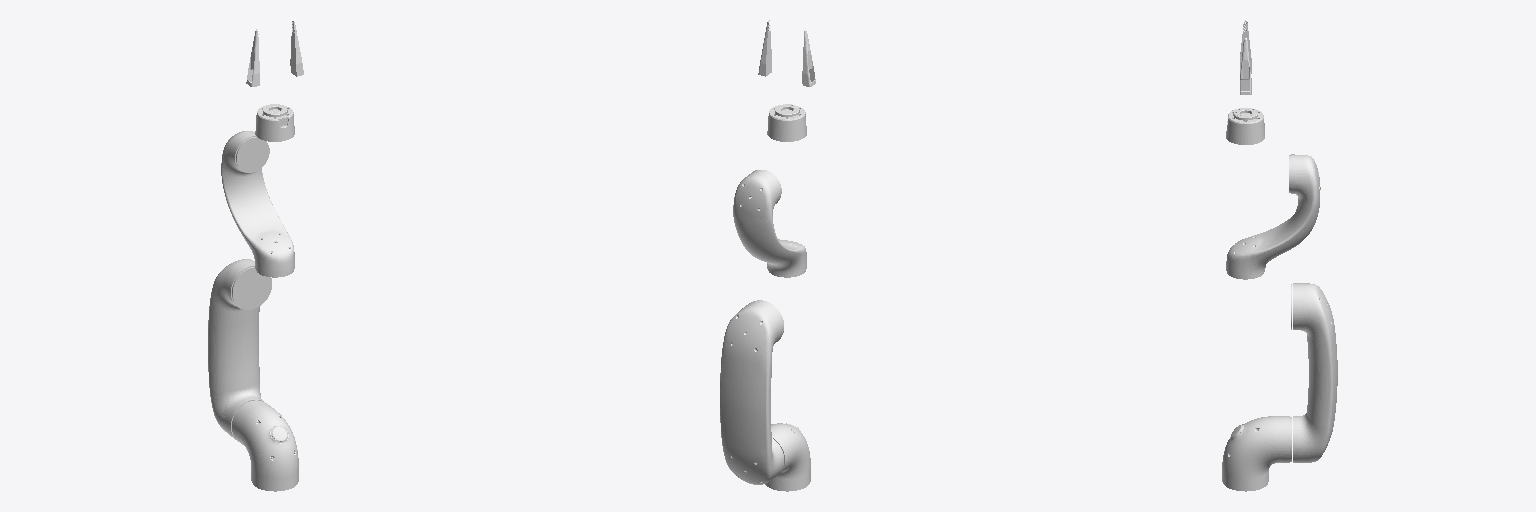
The robot description file, URDF, robot "strawberry_grasp_environment_robot":
<?xml version="1.0" ?>
<!-- e0509 Unity 시뮬레이터용 URDF. scripts/make_unity_urdf.py 가 만든다. 손으로 고치지 말 것. -->
<!-- 원천: ~/strawberry_grasp_environment/robot.urdf (Isaac 용 URDF) -->
<!--   딸기 리포 HEAD 2797bb5 · robot.urdf 마지막 커밋 a2e9bb5 · sha256 31518983405e61b26012fbc9ab3472b4c797590a3fe4a0ffbf3af9d471965a01 -->
<!--   메쉬 저장소 src/doosan_robot2 @ ec92425 -->
<!--   메쉬 저장소 src/RH-P12-RN @ 58d06e7 -->
<!-- 원천 대비 바꾼 것: 메쉬 절대 경로 → package:// : 40곳 / 중복 world 링크 + world_fixed(→ rh_p12_rn_base) 삭제: 1곳 / rh_r2 upper 1.0 → 1.1 rad / rh_l2 upper 1.0 → 1.1 rad / ros2_control 블록 삭제: 1개 / transmission 블록 삭제: 10개 / gazebo 블록 삭제: 15개 -->
<robot name="strawberry_grasp_environment_robot">
  <material name="black">
    <color rgba="0.0 0.0 0.0 1.0"/>
  </material>
  <material name="white">
    <color rgba="1.0 1.0 1.0 1.0"/>
  </material>
  <material name="orange">
    <color rgba="1.0 0.4 0.0 1.0"/>
  </material>
  <material name="dr_gray">
    <color rgba="0.490 0.490 0.486 1.0"/>
  </material>
  <material name="dr_white">
    <color rgba="0.941 0.941 0.941 1.0"/>
  </material>
  <material name="dr_blue">
    <color rgba="0 0 0.15 1"/>
  </material>
  <link name="base_link">
    <inertial>
      <mass value="1.803"/>
      <origin xyz="2.7e-05   -0.002651    0.035122"/>
      <inertia ixx="0.010608" ixy="1.7706e-06" ixz="6.6982e-06" iyy="0.0092656" iyz="-4.7833e-05" izz="0.0092125"/>
    </inertial>
    <collision>
      <origin rpy="0 0 0" xyz="0 0 0"/>
      <geometry>
        <mesh filename="package://dsr_description2/meshes/e0509_collision/E0509_0_0.dae" scale="0.001 0.001 0.001"/>
      </geometry>
      <material name="dr_white"/>
    </collision>
    <visual>
      <origin rpy="0 0 0" xyz="0 0 0"/>
      <geometry>
        <mesh filename="package://dsr_description2/meshes/e0509_white/E0509_0_0.dae" scale="0.001 0.001 0.001"/>
      </geometry>
      <material name="dr_white"/>
    </visual>
  </link>
  <!-- joint 1 -->
  <joint name="joint_1" type="revolute">
    <parent link="base_link"/>
    <child link="link_1"/>
    <origin rpy="0 0 0" xyz="0 0 0.2045"/>
    <axis xyz="0 0 1"/>
    <limit effort="194" lower="-6.2832" upper="6.2832" velocity="3.1416"/>
    <dynamics friction="0"/>
  </joint>
  <link name="link_1">
    <inertial>
      <mass value="5.75"/>
      <origin xyz="1e-06    0.049633   -0.049635"/>
      <inertia ixx="0.046214" ixy="1.4982e-05" ixz="1.281e-05" iyy="0.032573" iyz="-0.013997" izz="0.030999"/>
    </inertial>
    <collision>
      <origin rpy="0 0 0" xyz="0 0 0"/>
      <geometry>
        <mesh filename="package://dsr_description2/meshes/e0509_collision/E0509_1_1.dae" scale="0.001 0.001 0.001"/>
      </geometry>
      <material name="dr_white"/>
    </collision>
    <visual>
      <origin rpy="0 0 0" xyz="0 0 0"/>
      <geometry>
        <mesh filename="package://dsr_description2/meshes/e0509_white/E0509_1_1.dae" scale="0.001 0.001 0.001"/>
      </geometry>
      <material name="dr_white"/>
    </visual>
    <collision>
      <origin rpy="0 0 0" xyz="0 0 0"/>
      <geometry>
        <mesh filename="package://dsr_description2/meshes/e0509_collision/E0509_1_2.dae" scale="0.001 0.001 0.001"/>
      </geometry>
      <material name="dr_white"/>
    </collision>
    <visual>
      <origin rpy="0 0 0" xyz="0 0 0"/>
      <geometry>
        <mesh filename="package://dsr_description2/meshes/e0509_white/E0509_1_2.dae" scale="0.001 0.001 0.001"/>
      </geometry>
      <material name="dr_white"/>
    </visual>
    <collision>
      <origin rpy="0 0 0" xyz="0 0 0"/>
      <geometry>
        <mesh filename="package://dsr_description2/meshes/e0509_collision/E0509_1_3.dae" scale="0.001 0.001 0.001"/>
      </geometry>
      <material name="dr_white"/>
    </collision>
    <visual>
      <origin rpy="0 0 0" xyz="0 0 0"/>
      <geometry>
        <mesh filename="package://dsr_description2/meshes/e0509_white/E0509_1_3.dae" scale="0.001 0.001 0.001"/>
      </geometry>
      <material name="dr_white"/>
    </visual>
    <collision>
      <origin rpy="0 0 0" xyz="0 0 0"/>
      <geometry>
        <mesh filename="package://dsr_description2/meshes/e0509_collision/E0509_1_4.dae" scale="0.001 0.001 0.001"/>
      </geometry>
      <material name="dr_white"/>
    </collision>
    <visual>
      <origin rpy="0 0 0" xyz="0 0 0"/>
      <geometry>
        <mesh filename="package://dsr_description2/meshes/e0509_white/E0509_1_4.dae" scale="0.001 0.001 0.001"/>
      </geometry>
      <material name="dr_white"/>
    </visual>
  </link>
  <!-- joint2 -->
  <joint name="joint_2" type="revolute">
    <parent link="link_1"/>
    <child link="link_2"/>
    <origin rpy="0 -1.5708 -1.5708" xyz="0 0 0"/>
    <axis xyz="0 0 1"/>
    <!-- [D1 2026-09-14] joint_2 ±360 -> ±95 deg (=1.6581 rad). 실기 cuRobo 설정(e0509_gripper.urdf)의 운용 범위.
         시뮬 로봇이 실기가 못 가는 자세를 허용하면 안 된다 (docs/e0509_spec_audit.md D1). 속도는 공식·실기 동일 (D2). -->
    <limit effort="194" lower="-1.6581" upper="1.6581" velocity="3.1416"/>
    <dynamics friction="0"/>
  </joint>
  <link name="link_2">
    <inertial>
      <mass value="3.461"/>
      <origin xyz="0.18647 -1.1418e-17     0.17311"/>
      <inertia ixx="0.012039" ixy="7.7771e-06" ixz="3.7559e-06" iyy="0.091203" iyz="3.1825e-06" izz="0.094721"/>
    </inertial>
    <collision>
      <origin rpy="0 0 0" xyz="0 0 0"/>
      <geometry>
        <mesh filename="package://dsr_description2/meshes/e0509_collision/E0509_2_1.dae" scale="0.001 0.001 0.001"/>
      </geometry>
      <material name="dr_white"/>
    </collision>
    <visual>
      <origin rpy="0 0 0" xyz="0 0 0"/>
      <geometry>
        <mesh filename="package://dsr_description2/meshes/e0509_white/E0509_2_1.dae" scale="0.001 0.001 0.001"/>
      </geometry>
      <material name="dr_white"/>
    </visual>
    <collision>
      <origin rpy="0 0 0" xyz="0 0 0"/>
      <geometry>
        <mesh filename="package://dsr_description2/meshes/e0509_collision/E0509_2_2.dae" scale="0.001 0.001 0.001"/>
      </geometry>
      <material name="dr_white"/>
    </collision>
    <visual>
      <origin rpy="0 0 0" xyz="0 0 0"/>
      <geometry>
        <mesh filename="package://dsr_description2/meshes/e0509_white/E0509_2_2.dae" scale="0.001 0.001 0.001"/>
      </geometry>
      <material name="dr_white"/>
    </visual>
  </link>
  <!-- joint3 -->
  <joint name="joint_3" type="revolute">
    <parent link="link_2"/>
    <child link="link_3"/>
    <origin rpy="0 0 1.5708" xyz="0.373 0 0"/>
    <axis xyz="0 0 1"/>
    <!-- [D1 2026-09-14] joint_3 ±155 -> ±135 deg (=2.3562 rad). 실기 cuRobo 설정(e0509_gripper.urdf)의 운용 범위.
         시뮬 로봇이 실기가 못 가는 자세를 허용하면 안 된다 (docs/e0509_spec_audit.md D1). 속도는 공식·실기 동일 (D2). -->
    <limit effort="194" lower="-2.3562" upper="2.3562" velocity="3.1416"/>
    <dynamics friction="0"/>
  </joint>
  <link name="link_3">
    <inertial>
      <mass value="4.582"/>
      <origin xyz="1.2e-05    -0.02919    0.062355"/>
      <inertia ixx="0.032606" ixy="6.548e-06" ixz="-6.9939e-07" iyy="0.024211" iyz="-0.0079929" izz="0.019284"/>
    </inertial>
    <collision>
      <origin rpy="0 0 0" xyz="0 0 0"/>
      <geometry>
        <mesh filename="package://dsr_description2/meshes/e0509_collision/E0509_3_1.dae" scale="0.001 0.001 0.001"/>
      </geometry>
      <material name="dr_white"/>
    </collision>
    <visual>
      <origin rpy="0 0 0" xyz="0 0 0"/>
      <geometry>
        <mesh filename="package://dsr_description2/meshes/e0509_white/E0509_3_1.dae" scale="0.001 0.001 0.001"/>
      </geometry>
      <material name="dr_white"/>
    </visual>
    <collision>
      <origin rpy="0 0 0" xyz="0 0 0"/>
      <geometry>
        <mesh filename="package://dsr_description2/meshes/e0509_collision/E0509_3_2.dae" scale="0.001 0.001 0.001"/>
      </geometry>
      <material name="dr_white"/>
    </collision>
    <visual>
      <origin rpy="0 0 0" xyz="0 0 0"/>
      <geometry>
        <mesh filename="package://dsr_description2/meshes/e0509_white/E0509_3_2.dae" scale="0.001 0.001 0.001"/>
      </geometry>
      <material name="dr_white"/>
    </visual>
  </link>
  <!-- joint4 -->
  <joint name="joint_4" type="revolute">
    <parent link="link_3"/>
    <child link="link_4"/>
    <origin rpy="1.5708 0 0" xyz="0 -0.373 0"/>
    <axis xyz="0 0 1"/>
    <limit effort="66" lower="-6.2832" upper="6.2832" velocity="3.927"/>
    <dynamics friction="0"/>
  </joint>
  <link name="link_4">
    <inertial>
      <mass value="2.207"/>
      <origin xyz="4e-06    0.095573    -0.12813"/>
      <inertia ixx="0.03547" ixy="8.0794e-06" ixz="7.9905e-06" iyy="0.030841" iyz="-0.011996" izz="0.019615"/>
    </inertial>
    <collision>
      <origin rpy="0 0 0" xyz="0 0 0"/>
      <geometry>
        <mesh filename="package://dsr_description2/meshes/e0509_collision/E0509_4_1.dae" scale="0.001 0.001 0.001"/>
      </geometry>
      <material name="dr_white"/>
    </collision>
    <visual>
      <origin rpy="0 0 0" xyz="0 0 0"/>
      <geometry>
        <mesh filename="package://dsr_description2/meshes/e0509_white/E0509_4_1.dae" scale="0.001 0.001 0.001"/>
      </geometry>
      <material name="dr_white"/>
    </visual>
    <collision>
      <origin rpy="0 0 0" xyz="0 0 0"/>
      <geometry>
        <mesh filename="package://dsr_description2/meshes/e0509_collision/E0509_4_2.dae" scale="0.001 0.001 0.001"/>
      </geometry>
      <material name="dr_white"/>
    </collision>
    <visual>
      <origin rpy="0 0 0" xyz="0 0 0"/>
      <geometry>
        <mesh filename="package://dsr_description2/meshes/e0509_white/E0509_4_2.dae" scale="0.001 0.001 0.001"/>
      </geometry>
      <material name="dr_white"/>
    </visual>
  </link>
  <!-- joint5 -->
  <joint name="joint_5" type="revolute">
    <parent link="link_4"/>
    <child link="link_5"/>
    <origin rpy="-1.5708 0 0" xyz="0 0 0"/>
    <axis xyz="0 0 1"/>
    <!-- [D1 2026-09-14] J5 ±360 -> ±135 (=2.3562 rad). 공식 URDF 는 ±360, 카탈로그는 ±155,
         실기 cuRobo 설정(e0509_gripper.urdf)은 ±135 로 가장 좁다. 시뮬 로봇이 실기가 못 가는
         자세를 허용하면 안 되므로 실기 값을 쓴다 (docs/e0509_spec_audit.md D1).
         속도 3.927(225deg/s)는 공식·실기 동일이라 그대로 (D2). -->
    <limit effort="66" lower="-2.3562" upper="2.3562" velocity="3.927"/>
    <dynamics friction="0"/>
  </joint>
  <link name="link_5">
    <inertial>
      <mass value="3.545"/>
      <origin xyz="-3e-06 -0.038009 0.043841"/>
      <inertia ixx="0.023526" ixy="9.9368e-06" ixz="7.6673e-06" iyy="0.018415" iyz="-0.0059939" izz="0.014249"/>
    </inertial>
    <collision>
      <origin rpy="0 0 0" xyz="0 0 0"/>
      <geometry>
        <mesh filename="package://dsr_description2/meshes/e0509_collision/E0509_5_1.dae" scale="0.001 0.001 0.001"/>
      </geometry>
      <material name="dr_white"/>
    </collision>
    <visual>
      <origin rpy="0 0 0" xyz="0 0 0"/>
      <geometry>
        <mesh filename="package://dsr_description2/meshes/e0509_white/E0509_5_1.dae" scale="0.001 0.001 0.001"/>
      </geometry>
      <material name="dr_white"/>
    </visual>
    <collision>
      <origin rpy="0 0 0" xyz="0 0 0"/>
      <geometry>
        <mesh filename="package://dsr_description2/meshes/e0509_collision/E0509_5_2.dae" scale="0.001 0.001 0.001"/>
      </geometry>
      <material name="dr_white"/>
    </collision>
    <visual>
      <origin rpy="0 0 0" xyz="0 0 0"/>
      <geometry>
        <mesh filename="package://dsr_description2/meshes/e0509_white/E0509_5_2.dae" scale="0.001 0.001 0.001"/>
      </geometry>
      <material name="dr_white"/>
    </visual>
  </link>
  <!-- joint6 -->
  <joint name="joint_6" type="revolute">
    <parent link="link_5"/>
    <child link="link_6"/>
    <origin rpy="1.5708 0 0" xyz="0 -0.1725 0"/>
    <axis xyz="0 0 1"/>
    <limit effort="66" lower="-6.2832" upper="6.2832" velocity="3.927"/>
    <dynamics friction="0"/>
  </joint>
  <link name="link_6">
    <inertial>
      <mass value="0.721"/>
      <origin xyz="5.4e-05   -0.000114   -0.032091"/>
      <inertia ixx="0.0048272" ixy="5.6302e-06" ixz="5.5274e-06" iyy="0.0046772" iyz="3.9598e-06" izz="0.0079424"/>
    </inertial>
    <collision>
      <origin rpy="0 0 0" xyz="0 0 0"/>
      <geometry>
        <mesh filename="package://dsr_description2/meshes/e0509_collision/E0509_6_1.dae" scale="0.001 0.001 0.001"/>
      </geometry>
      <material name="dr_white"/>
    </collision>
    <visual>
      <origin rpy="0 0 0" xyz="0 0 0"/>
      <geometry>
        <mesh filename="package://dsr_description2/meshes/e0509_white/E0509_6_1.dae" scale="0.001 0.001 0.001"/>
      </geometry>
      <material name="dr_white"/>
    </visual>
  </link>
  <!-- Transmission 1 -->
  <!-- Transmission 2 -->
  <!-- Transmission 3 -->
  <!-- Transmission 4 -->
  <!-- Transmission 5 -->
  <!-- Transmission 6 -->
  <!-- ros_control plugin -->
  <!-- Base -->
  <!-- Link1 -->
  <!-- Link2 -->
  <!-- Link3 -->
  <!-- Link4 -->
  <!-- Link5 -->
  <!-- Link6 -->
  <!-- World -->
  <link name="world"/>
  <joint name="world_fixed" type="fixed">
    <origin rpy="0 0 0" xyz="0 0 0"/>
    <parent link="world"/>
    <child link="base_link"/>
  </joint>
  <!-- ros_control plugin -->
  <!-- World -->
  <!-- rh_p12_rn_base -->
  <!-- rh_p12_rn_r1 -->
  <!-- rh_p12_rn_r2 -->
  <!-- rh_p12_rn_l1 -->
  <!-- rh_p12_rn_l2 -->
  <material name="black">
    <color rgba="0.0 0.0 0.0 1.0"/>
  </material>
  <material name="blue">
    <color rgba="0.0 0.0 0.8 1.0"/>
  </material>
  <material name="green">
    <color rgba="0.0 0.8 0.0 1.0"/>
  </material>
  <material name="grey">
    <color rgba="0.2 0.2 0.2 1.0"/>
  </material>
  <material name="orange">
    <color rgba="1.0 0.4235294117647059 0.0392156862745098 1.0"/>
  </material>
  <material name="brown">
    <color rgba="0.8705882352941177 0.8117647058823529 0.7647058823529411 1.0"/>
  </material>
  <material name="red">
    <color rgba="0.8 0.0 0.0 1.0"/>
  </material>
  <material name="white">
    <color rgba="1.0 1.0 1.0 1.0"/>
  </material>
  <!-- base -->
  <link name="rh_p12_rn_base">
    <collision>
      <origin rpy="0 0 0" xyz="0 0 0"/>
      <geometry>
        <mesh filename="package://rh_p12_rn_description/meshes/base.stl" scale="0.001 0.001 0.001"/>
      </geometry>
    </collision>
    <visual>
      <origin rpy="0 0 0" xyz="0 0 0"/>
      <geometry>
        <mesh filename="package://rh_p12_rn_description/meshes/base.stl" scale="0.001 0.001 0.001"/>
      </geometry>
      <material name="black"/>
    </visual>
    <inertial>
      <origin rpy="0 0 0" xyz="0.000 0.000 0.032"/>
      <mass value="0.236"/>
      <!--<inertia ixx="0.00017" ixy="0.0" ixz="0.0" iyy="0.00011" iyz="0.0" izz="0.00017" />-->
      <inertia ixx="1.0" ixy="0.0" ixz="0.0" iyy="1.0" iyz="0.0" izz="1.0"/>
    </inertial>
  </link>
  <!-- Joint -->
  <joint name="rh_p12_rn" type="revolute">
    <parent link="rh_p12_rn_base"/>
    <child link="rh_p12_rn_r1"/>
    <origin rpy="0 0 0" xyz="0.0 0.008 0.048"/>
    <axis xyz="1 0 0"/>
    <limit effort="1000" lower="0.0" upper="1.1" velocity="6.5"/>
    <dynamics damping="0.7"/>
  </joint>
  <!-- rh_p12_rn_r1 -->
  <link name="rh_p12_rn_r1">
    <collision>
      <origin rpy="0 0 0" xyz="0 0 0"/>
      <geometry>
        <mesh filename="package://rh_p12_rn_description/meshes/r1.stl" scale="0.001 0.001 0.001"/>
      </geometry>
    </collision>
    <visual>
      <origin rpy="0 0 0" xyz="0 0 0"/>
      <geometry>
        <mesh filename="package://rh_p12_rn_description/meshes/r1.stl" scale="0.001 0.001 0.001"/>
      </geometry>
      <material name="black"/>
    </visual>
    <inertial>
      <origin rpy="0 0 0" xyz="0.000 0.034 0.004"/>
      <mass value="0.068"/>
      <!--<inertia ixx="0.00004" ixy="0.0" ixz="0.0" iyy="0.00002" iyz="-0.00001" izz="0.00002" />-->
      <inertia ixx="1.0" ixy="0.0" ixz="0.0" iyy="1.0" iyz="0.0" izz="1.0"/>
    </inertial>
  </link>
  <!-- Right Joint 2 -->
  <joint name="rh_r2" type="revolute">
    <parent link="rh_p12_rn_r1"/>
    <child link="rh_p12_rn_r2"/>
    <origin rpy="0 0 0" xyz="0.0 0.0493634 0.0285"/>
    <axis xyz="-1 0 0"/>
    <limit effort="1000" lower="0.0" upper="1.1" velocity="6.5"/>
    <dynamics damping="0.7"/>
  </joint>
  <!-- rh_p12_rn_r2 -->
  <link name="rh_p12_rn_r2">
    <collision>
      <origin rpy="0 0 0" xyz="0 0 0"/>
      <geometry>
        <mesh filename="package://rh_p12_rn_description/meshes/r2.stl" scale="0.001 0.001 0.001"/>
      </geometry>
    </collision>
    <visual>
      <origin rpy="0 0 0" xyz="0 0 0"/>
      <geometry>
        <mesh filename="package://rh_p12_rn_description/meshes/r2.stl" scale="0.001 0.001 0.001"/>
      </geometry>
      <material name="black"/>
    </visual>
    <inertial>
      <origin rpy="0 0 0" xyz="0.000 0.006 0.011"/>
      <mass value="0.022"/>
      <!--<inertia ixx="0.0" ixy="0.0" ixz="0.0" iyy="0.00001" iyz="0.0" izz="0.0" />-->
      <inertia ixx="1.0" ixy="0.0" ixz="0.0" iyy="1.0" iyz="0.0" izz="1.0"/>
    </inertial>
  </link>
  <!-- Left Joint 1 -->
  <joint name="rh_l1" type="revolute">
    <parent link="rh_p12_rn_base"/>
    <child link="rh_p12_rn_l1"/>
    <origin rpy="0 0 0" xyz="0.0 -0.008 0.048"/>
    <axis xyz="-1 0 0"/>
    <limit effort="1000" lower="0.0" upper="1.1" velocity="6.5"/>
    <dynamics damping="0.7"/>
  </joint>
  <!-- rh_p12_rn_l1 -->
  <link name="rh_p12_rn_l1">
    <collision>
      <origin rpy="0 0 0" xyz="0 0 0"/>
      <geometry>
        <mesh filename="package://rh_p12_rn_description/meshes/l1.stl" scale="0.001 0.001 0.001"/>
      </geometry>
    </collision>
    <visual>
      <origin rpy="0 0 0" xyz="0 0 0"/>
      <geometry>
        <mesh filename="package://rh_p12_rn_description/meshes/l1.stl" scale="0.001 0.001 0.001"/>
      </geometry>
      <material name="black"/>
    </visual>
    <inertial>
      <origin rpy="0 0 0" xyz="0.000 -0.034 0.004"/>
      <mass value="0.068"/>
      <!--<inertia ixx="0.00004" ixy="0.0" ixz="0.0" iyy="0.00002" iyz="0.00001" izz="0.00002" />-->
      <inertia ixx="1.0" ixy="0.0" ixz="0.0" iyy="1.0" iyz="0.0" izz="1.0"/>
    </inertial>
  </link>
  <!-- Left Joint 2 -->
  <joint name="rh_l2" type="revolute">
    <parent link="rh_p12_rn_l1"/>
    <child link="rh_p12_rn_l2"/>
    <origin rpy="0 0 0" xyz="0.0 -0.0493634 0.0285"/>
    <axis xyz="1 0 0"/>
    <limit effort="1000" lower="0.0" upper="1.1" velocity="6.5"/>
    <dynamics damping="0.7"/>
  </joint>
  <!-- rh_p12_rn_l2 -->
  <link name="rh_p12_rn_l2">
    <collision>
      <origin rpy="0 0 0" xyz="0 0 0"/>
      <geometry>
        <mesh filename="package://rh_p12_rn_description/meshes/l2.stl" scale="0.001 0.001 0.001"/>
      </geometry>
    </collision>
    <visual>
      <origin rpy="0 0 0" xyz="0 0 0"/>
      <geometry>
        <mesh filename="package://rh_p12_rn_description/meshes/l2.stl" scale="0.001 0.001 0.001"/>
      </geometry>
      <material name="black"/>
    </visual>
    <inertial>
      <origin rpy="0 0 0" xyz="0.000 -0.006 0.011"/>
      <mass value="0.022"/>
      <!--<inertia ixx="0.0" ixy="0.0" ixz="0.0" iyy="0.00001" iyz="0.0" izz="0.0" />-->
      <inertia ixx="1.0" ixy="0.0" ixz="0.0" iyy="1.0" iyz="0.0" izz="1.0"/>
    </inertial>
  </link>
  <!-- Joint connecting arm to gripper -->
  <!-- The z offset and rotation should be adjusted based on the real hardware mount -->
  <joint name="arm_to_gripper" type="fixed">
    <parent link="link_6"/>
    <child link="rh_p12_rn_base"/>
    <origin rpy="0 0 1.5707963267948966" xyz="0 0 0"/>
  </joint>
  <!-- ========================================== -->
  <!-- 3. Custom 3D Printed Gripper Parts -->
  <!-- ========================================== -->
  <!-- 
    The user can modify these origins and collision primitives later. 
    The stl file is assumed to be in strawberry_grasp_environment_description/meshes/gripper_parts.stl
  -->
  <!-- Left Custom Part -->
  <link name="left_custom_part">
    <inertial>
      <mass value="0.1"/>
      <origin rpy="-1.5707963267948966 0 -1.5707963267948966" xyz="0 0 0"/>
      <inertia ixx="0.0001" ixy="0" ixz="0" iyy="0.0001" iyz="0" izz="0.0001"/>
    </inertial>
    <visual>
      <origin rpy="-1.5707963267948966 0 -1.5707963267948966" xyz="0 0 0"/>
      <geometry>
        <!-- Replace this with the correct mesh if it's mirrored, or use scale="-1 1 1" etc. -->
        <mesh filename="package://strawberry_grasp_environment_description/meshes/gripper_parts.stl" scale="0.001 0.001 0.001"/>
      </geometry>
      <material name="white">
        <color rgba="1 1 1 1"/>
      </material>
    </visual>
  </link>
  <joint name="l2_to_left_custom_part" type="fixed">
    <parent link="rh_p12_rn_l2"/>
    <child link="left_custom_part"/>
    <origin rpy="-1.5707963267948966 0 -1.5707963267948966" xyz="0.02090 0.00498 0.00058"/>
  </joint>
  <!-- Right Custom Part -->
  <link name="right_custom_part">
    <inertial>
      <mass value="0.1"/>
      <origin rpy="1.5707963267948966 0 1.5707963267948966" xyz="0 0 0"/>
      <inertia ixx="0.0001" ixy="0" ixz="0" iyy="0.0001" iyz="0" izz="0.0001"/>
    </inertial>
    <visual>
      <origin rpy="1.5707963267948966 0 1.5707963267948966" xyz="0 0 0"/>
      <geometry>
        <!-- Using the same mesh. You might need to flip it if it's asymmetrical -->
        0
        
        <mesh filename="package://strawberry_grasp_environment_description/meshes/gripper_parts.stl" scale="0.001 0.001 0.001"/>
      </geometry>
      <material name="white">
        <color rgba="1 1 1 1"/>
      </material>
    </visual>
  </link>
  <joint name="r2_to_right_custom_part" type="fixed">
    <parent link="rh_p12_rn_r2"/>
    <child link="right_custom_part"/>
    <origin rpy="1.5707963267948966 0 1.5707963267948966" xyz="-0.02090 -0.00499 0.00058"/>
  </joint>
</robot>

--- Render facts (derived) ---
3 views of the same robot in one strip: view 1: azimuth 30°, elevation 25°; view 2: azimuth 150°, elevation 25°; view 3: azimuth 270°, elevation 25° (orthographic).
Model strawberry_grasp_environment_robot with 15 links and 14 joints (10 revolute, 4 fixed), rooted at world, posed every joint at zero.
Links seen in each view (by area): view 1: link_2, link_4, link_1, link_6; view 2: link_2, link_4, link_1, link_6; view 3: link_2, link_4, link_1, link_6.
Boxes of the visible links, x1,y1,x2,y2 form: link_2: [208, 259, 271, 439]; link_4: [221, 131, 294, 275]; link_1: [232, 400, 298, 491]; link_6: [255, 104, 294, 141]; link_2: [720, 300, 783, 484]; link_4: [733, 170, 806, 275]; link_1: [765, 423, 810, 491]; link_6: [767, 104, 806, 141]; link_2: [1291, 283, 1337, 462]; link_4: [1226, 154, 1320, 277]; link_1: [1222, 416, 1291, 491]; link_6: [1226, 108, 1264, 144].
Bounding box of the posed robot: 0.1528 × 0.2945 × 1.27 m (x, y, z).
Meshes: 20 distinct files referenced, 12 mesh visuals loaded (1 binary STL, 10 Collada DAE); not drawn: 9 (reference not matched to a file when rendering).
